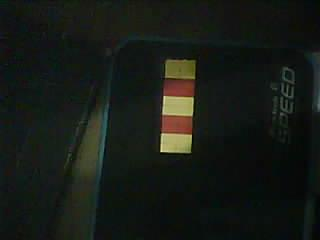lego: (159, 59, 196, 155)
